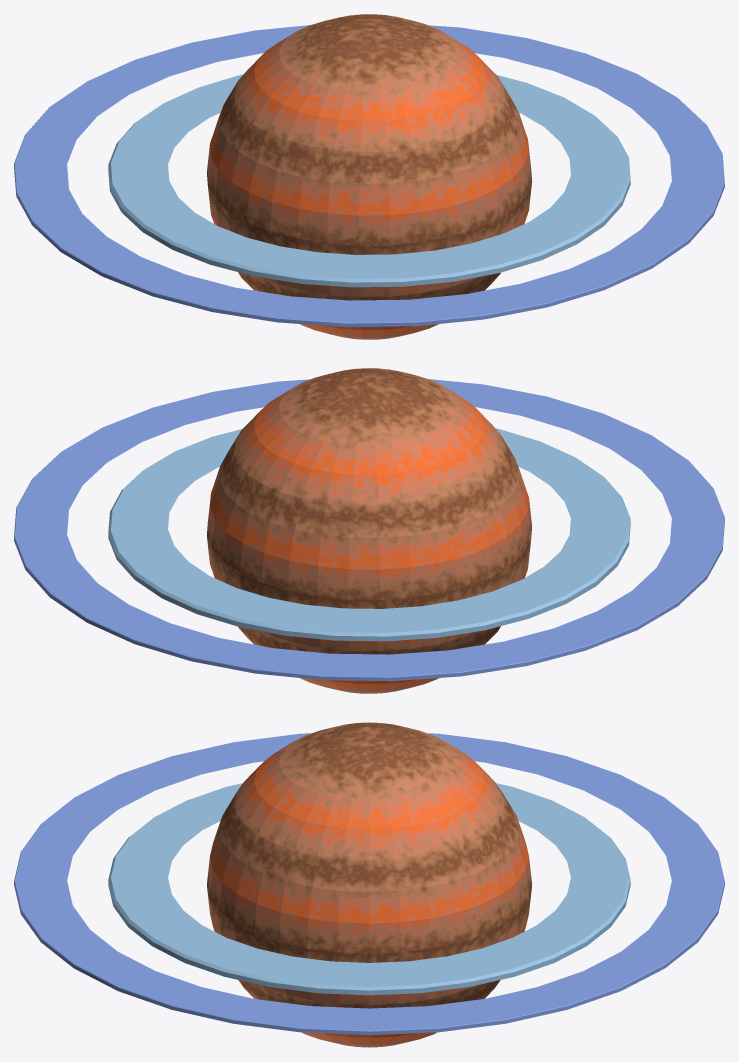
Rendered from saturn.glb.
3 renders of one model, top to bottom at view 1: azimuth 30°, elevation 25°; view 2: azimuth 150°, elevation 25°; view 3: azimuth 270°, elevation 25°, orthographic.
Visible parts, largest first — view 1: Sphere, Circle.003, Circle.002; view 2: Sphere, Circle.003, Circle.002; view 3: Sphere, Circle.003, Circle.002.
Part boxes in pixels (x1,y1,x2,y2): Sphere: [207, 14, 531, 339]; Circle.003: [14, 25, 724, 327]; Circle.002: [108, 74, 630, 287]; Sphere: [207, 368, 531, 693]; Circle.003: [14, 379, 724, 681]; Circle.002: [108, 428, 630, 641]; Sphere: [207, 722, 531, 1047]; Circle.003: [14, 733, 724, 1035]; Circle.002: [108, 783, 630, 995].
Size of the model in its own units: 15.64 by 7.16 by 15.64.
3 materials, 1 textured.
